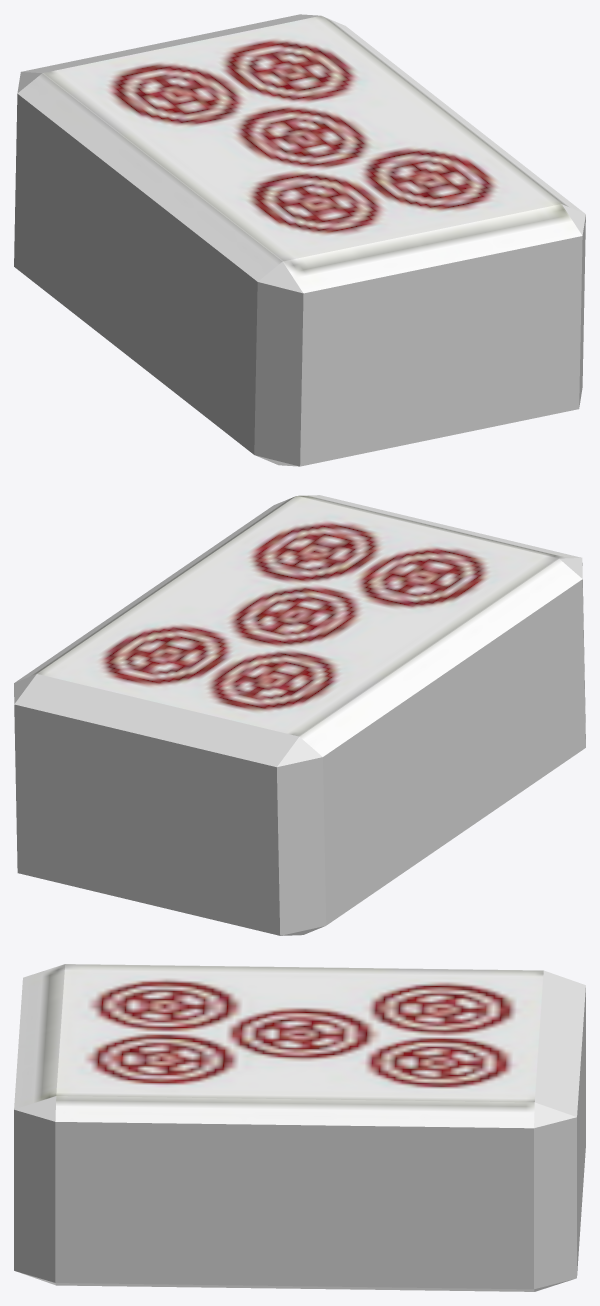
The picture shows the model from 3 angles, top to bottom: view 1: azimuth 30°, elevation 25°; view 2: azimuth 150°, elevation 25°; view 3: azimuth 270°, elevation 25°; orthographic projection. The views are drawn at different scales.
Visible parts, largest first — view 1: 5pr; view 2: 5pr; view 3: 5pr.
Boxes of the visible parts, <box> form: 5pr: <box>14,14,585,466</box>; 5pr: <box>14,495,585,935</box>; 5pr: <box>14,964,585,1291</box>.
Size of the model in its own units: 52.53 by 30.93 by 81.24.
